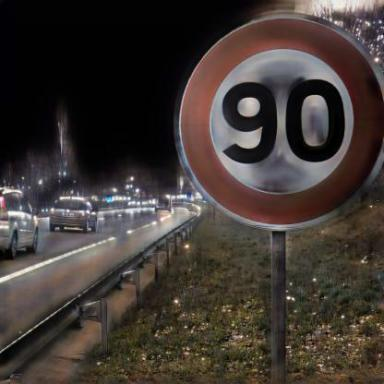Speed_limit_90: (183, 22, 384, 225)
